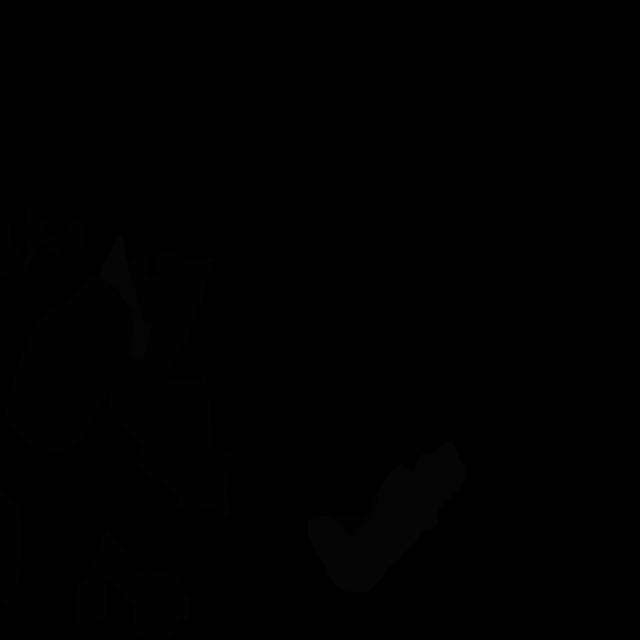cardboard: (108, 249, 232, 517), (6, 275, 134, 452), (76, 526, 191, 640), (0, 202, 86, 281), (0, 490, 24, 610), (332, 493, 378, 538)
soft_plastic: (308, 441, 466, 593), (100, 233, 151, 358)
